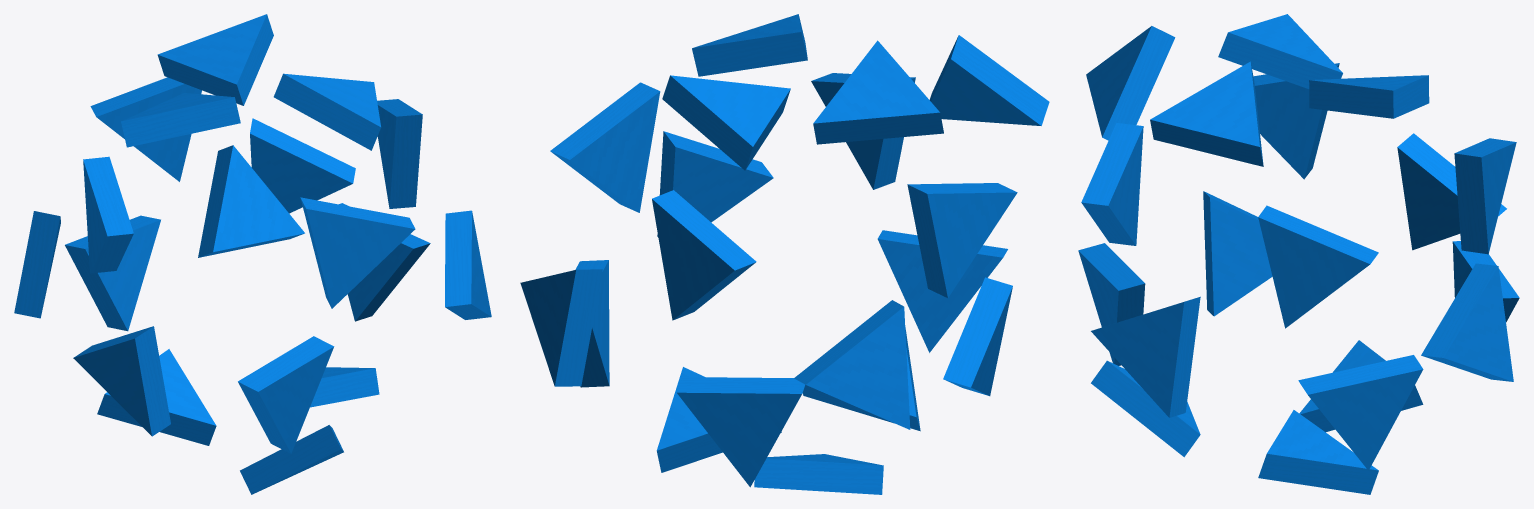
The model's file is qawa.obj.
3 renders of one model, left to right at view 1: azimuth 30°, elevation 25°; view 2: azimuth 150°, elevation 25°; view 3: azimuth 270°, elevation 25°, orthographic. The views are drawn at different scales.
Visible parts, largest first — view 1: Cube.002; view 2: Cube.002; view 3: Cube.002.
Boxes of the visible parts, x1,y1,x2,y2 form: Cube.002: (14, 14, 491, 494); Cube.002: (520, 14, 1049, 494); Cube.002: (1078, 14, 1519, 494).
Size of the model in its own units: 1.23 by 1.24 by 1.24.
